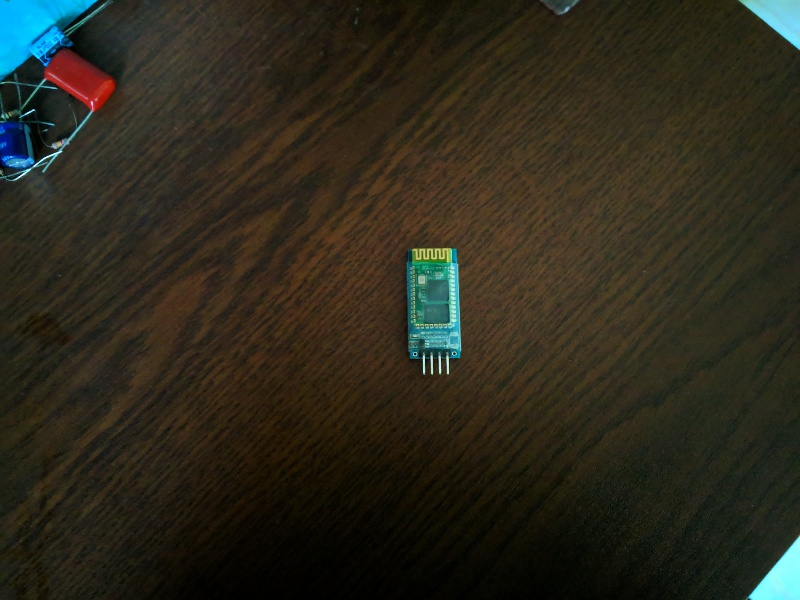HC-05: (397, 239, 472, 367)
